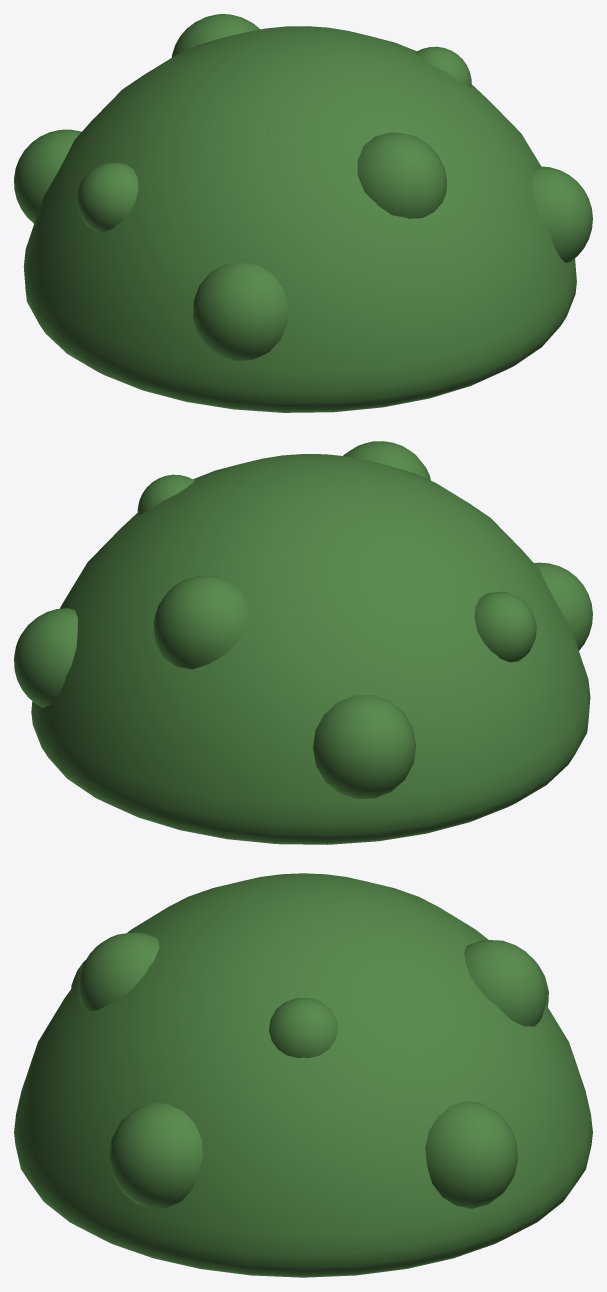
Rendered from seto1.fbx.
3 renders of one model, top to bottom at view 1: azimuth 30°, elevation 25°; view 2: azimuth 150°, elevation 25°; view 3: azimuth 270°, elevation 25°, orthographic. The views are drawn at different scales.
Visible parts, largest first — view 1: seto; view 2: seto; view 3: seto.
Part boxes in pixels (x1=…): seto: x1=14, y1=14, x2=592, y2=412; seto: x1=14, y1=441, x2=592, y2=844; seto: x1=14, y1=873, x2=592, y2=1277.
Size of the model in its own units: 328 by 166 by 328.
